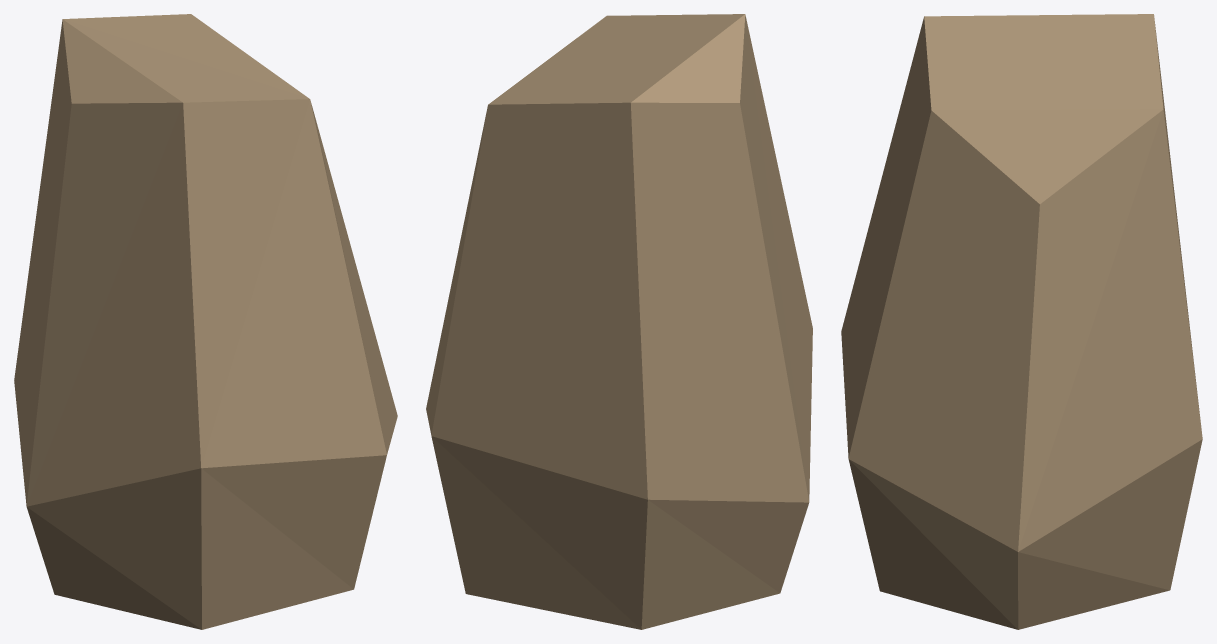
Rendered from TB_D_Env_RockC_B.FBX.
3 views of the same model, side by side, from view 1: azimuth 30°, elevation 25°; view 2: azimuth 150°, elevation 25°; view 3: azimuth 270°, elevation 25° (orthographic). The views are drawn at different scales.
Visible parts, largest first — view 1: TB_D_Env_RockC_B; view 2: TB_D_Env_RockC_B; view 3: TB_D_Env_RockC_B.
Boxes of the visible parts, x1,y1,x2,y2 form: TB_D_Env_RockC_B: (14, 14, 397, 629); TB_D_Env_RockC_B: (426, 14, 812, 629); TB_D_Env_RockC_B: (841, 14, 1202, 629).
Size of the model in its own units: 1.43 by 1.87 by 1.22.
